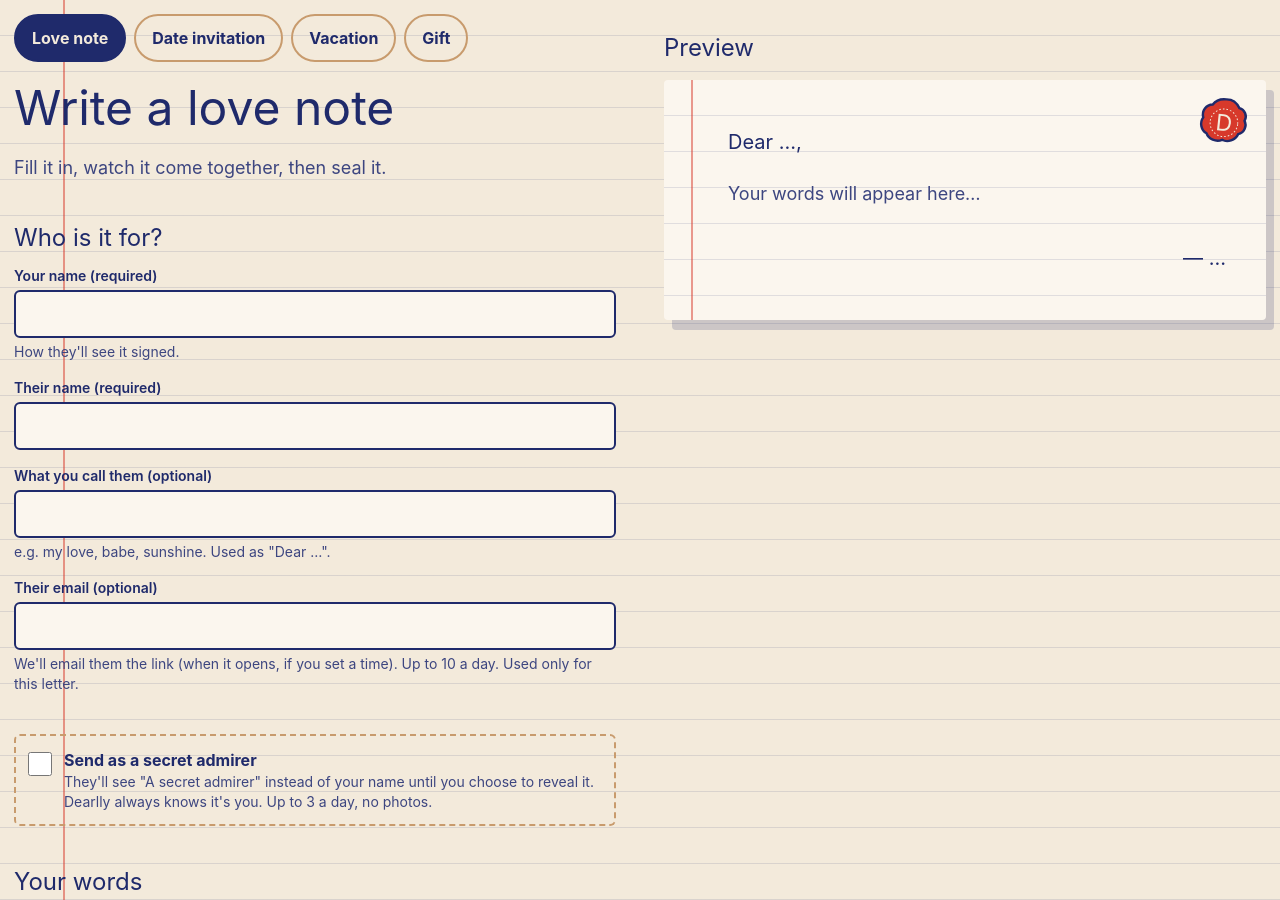
WriteLetter › seals the letter and offers WhatsApp and copy
Type "Ada" into the field labelled "Your name (required) How they'll see it signed." at (315, 314), box [14,290,616,338]
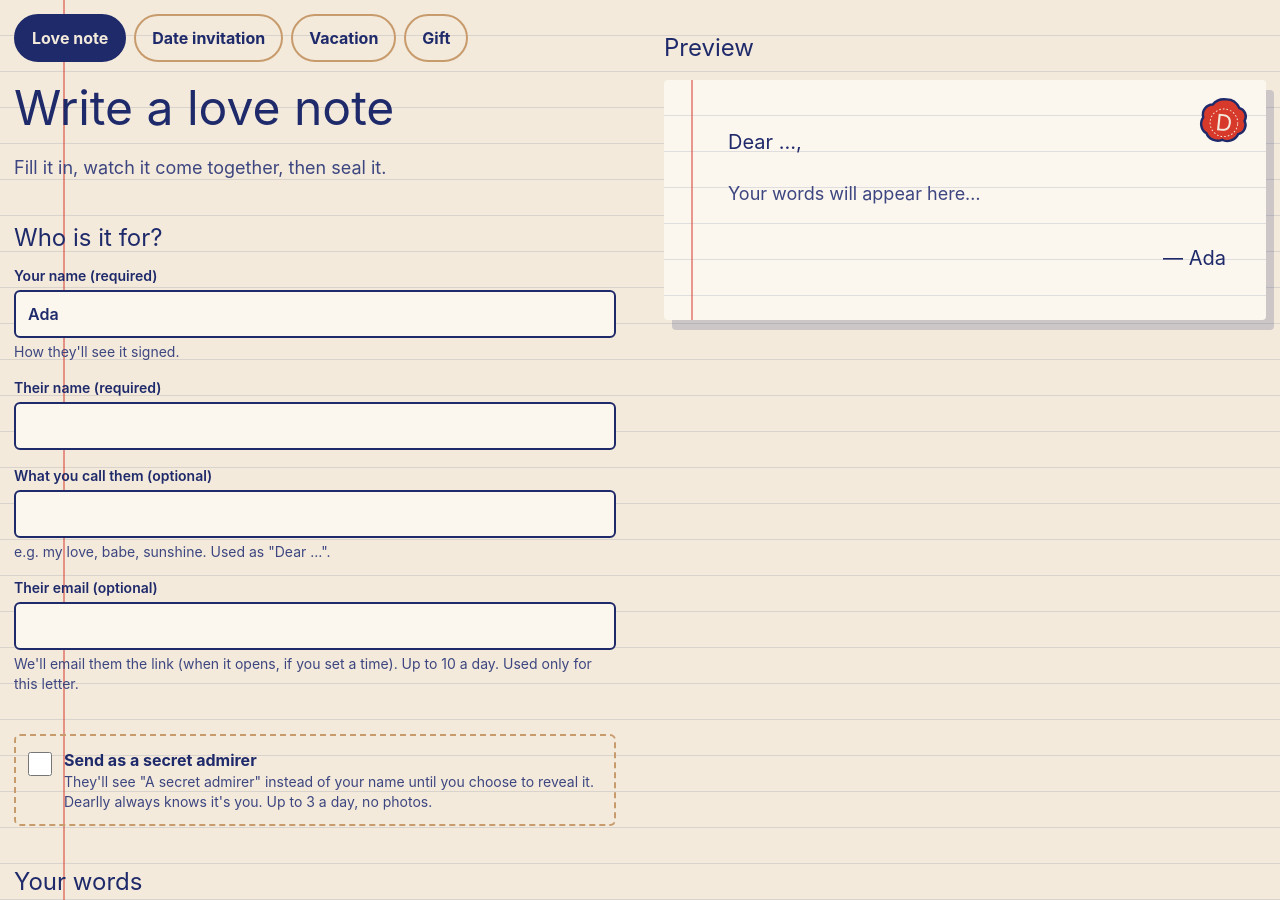
Type "Tolu" into the field labelled "Their name (required)" at (315, 426), box [14,402,616,450]
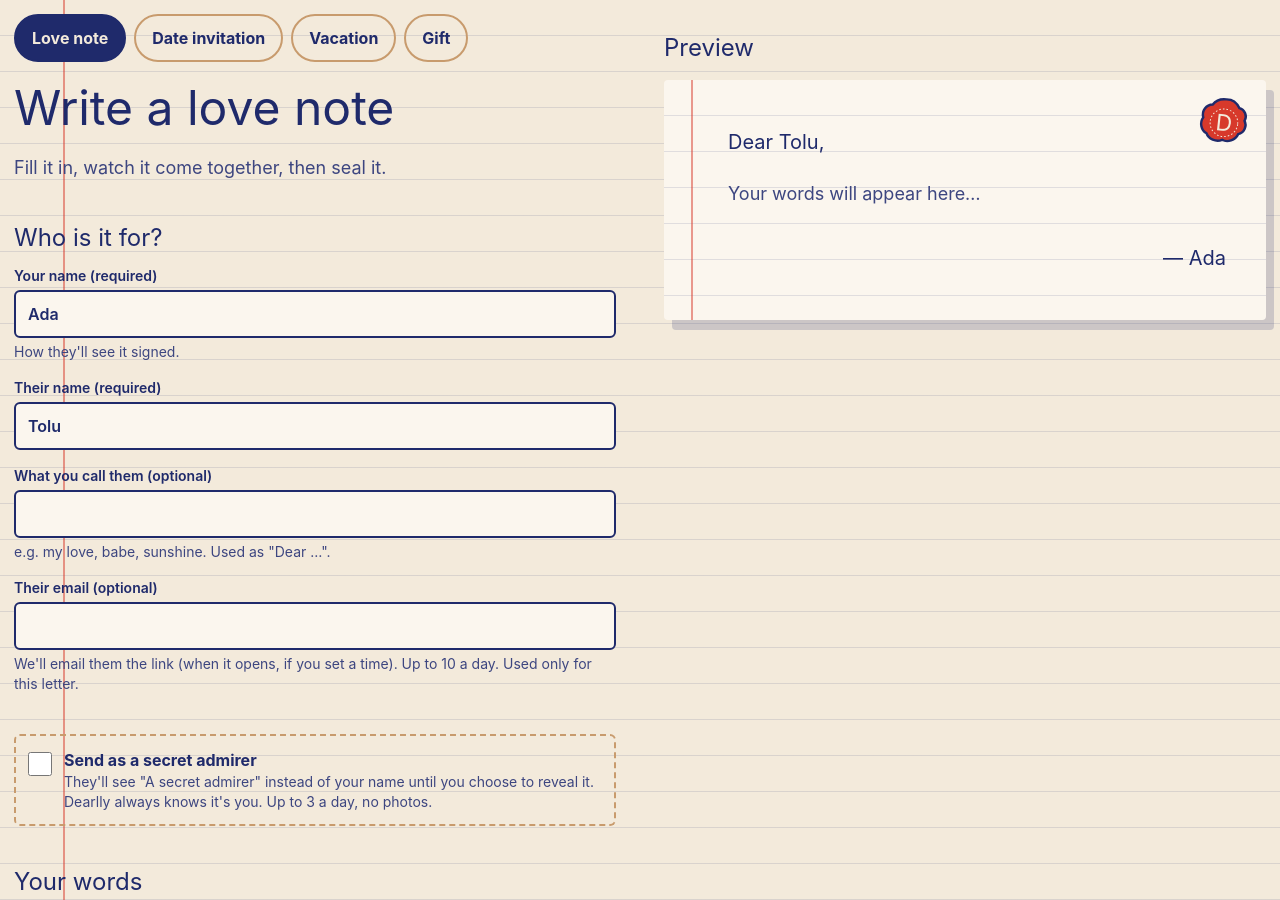
Type "my love" into the field labelled "What you call them" at (315, 514), box [14,490,616,538]
(page scrolled)
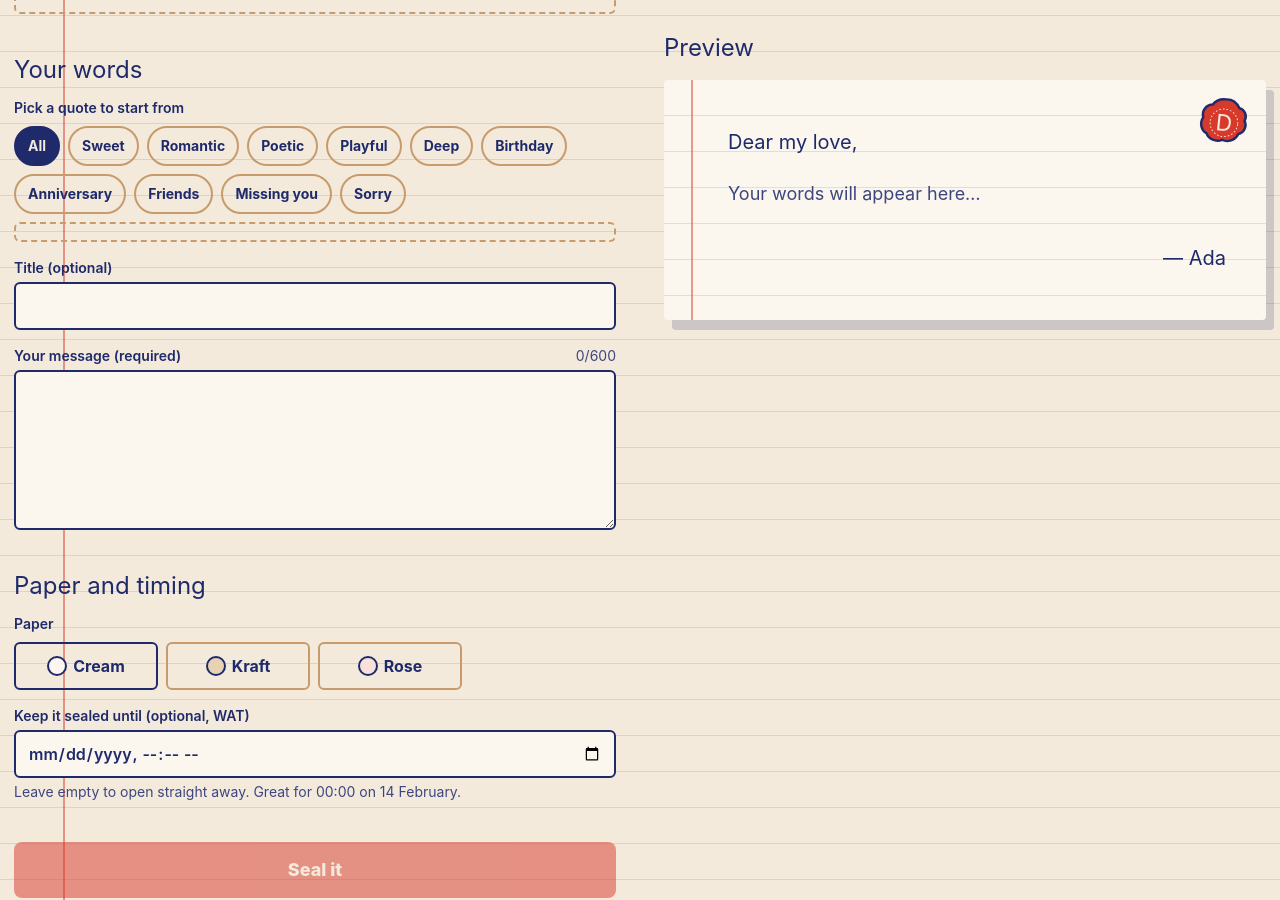
Type "You are my person." into the text box labelled "Your message (required) 0/600" at (315, 450), box [14,370,616,530]
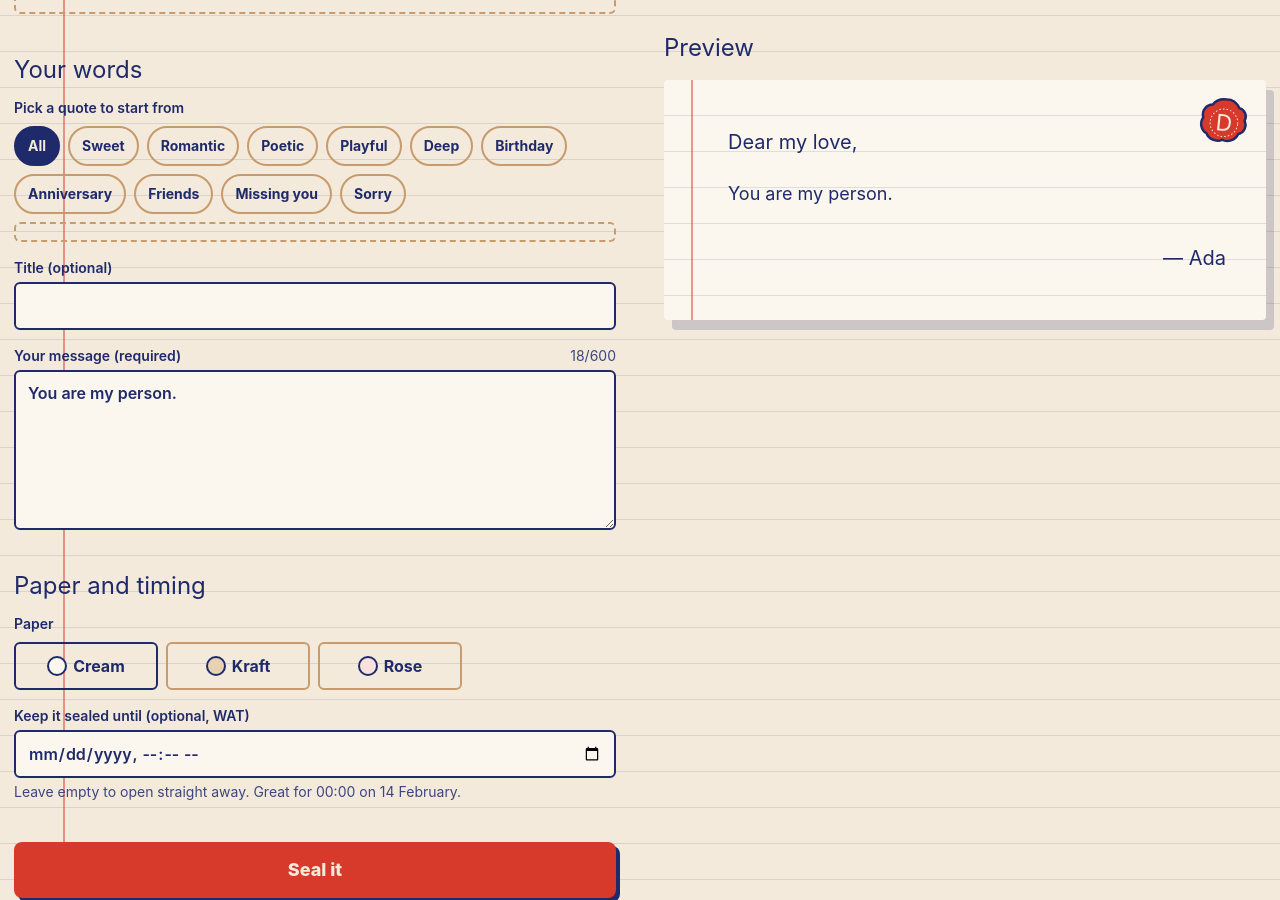
Type "2027-02-14T00:00" into the field labelled "Keep it sealed until" at (315, 754), box [14,730,616,778]
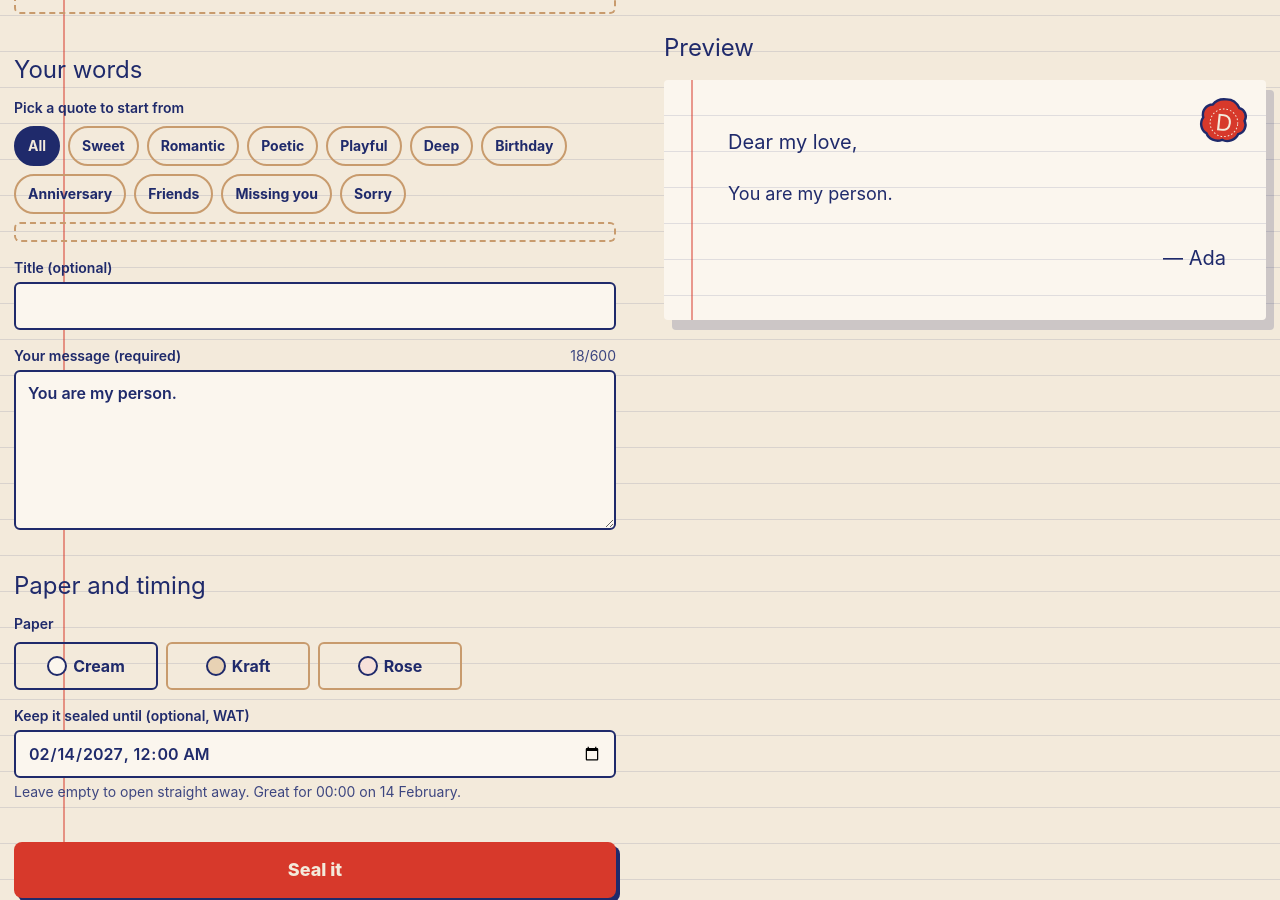
Click the button "Seal it" at (315, 870), box [14,842,616,898]
(page scrolled)
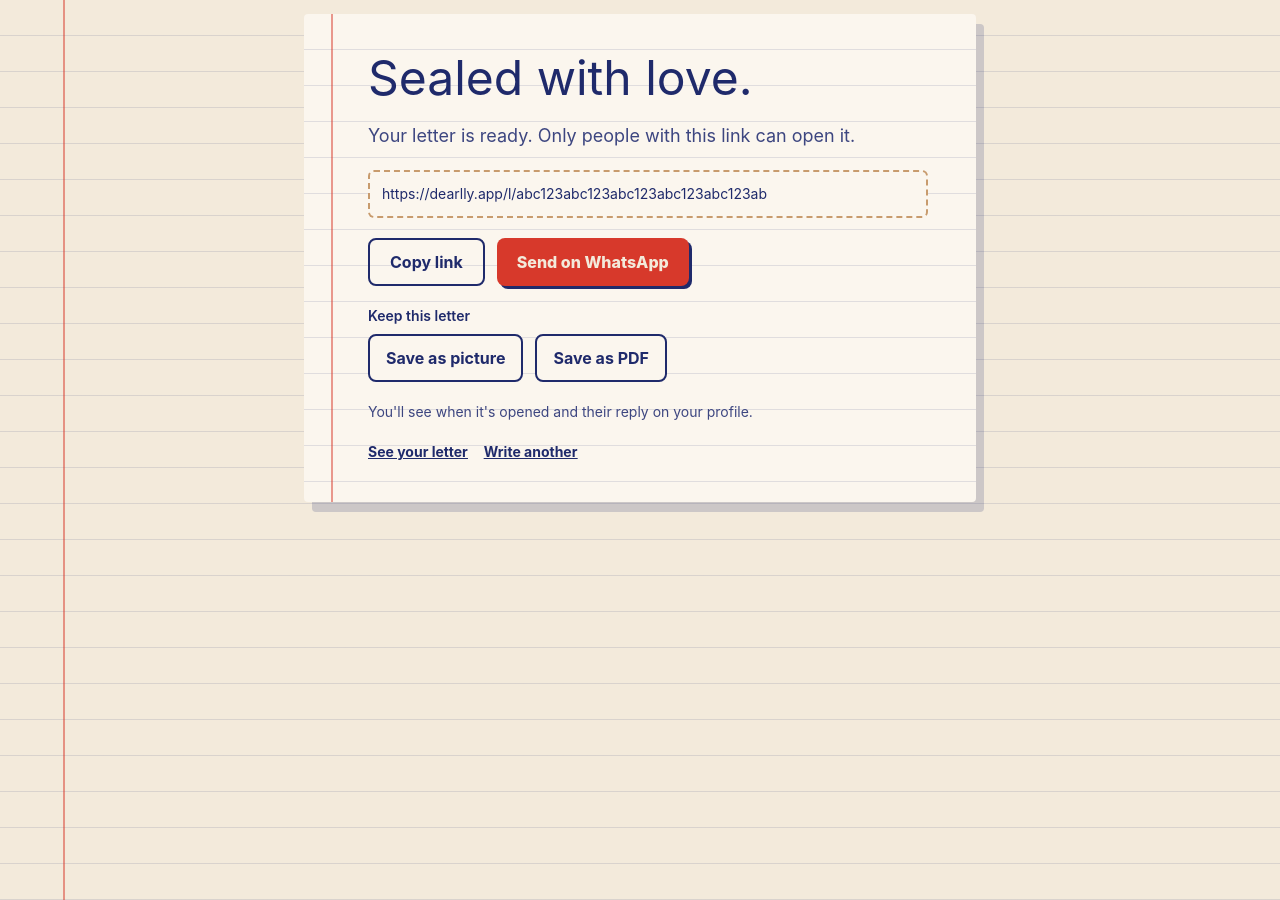
Check: the heading "Sealed with love." is shown, box [368,48,752,107]
